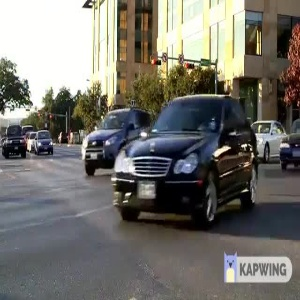car: (110, 89, 256, 229)
